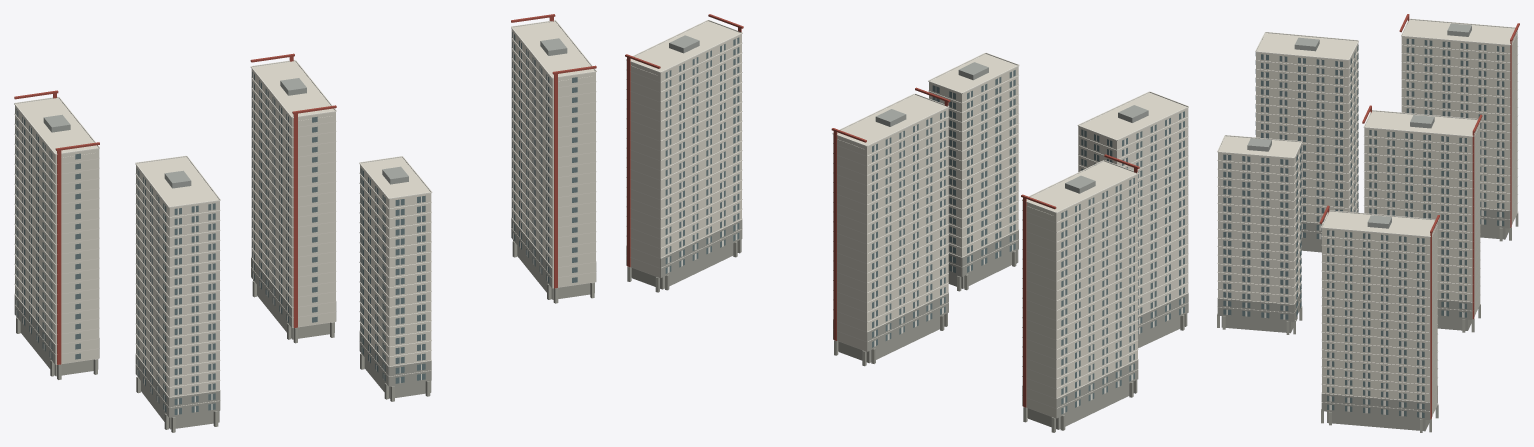
File: representative-a10024925.glb
3 views of the same model, side by side, from view 1: azimuth 30°, elevation 25°; view 2: azimuth 150°, elevation 25°; view 3: azimuth 270°, elevation 25° (orthographic). The views are drawn at different scales.
Visible parts, largest first — view 1: A10024925_wall001, A10024925_trim001, A10024925_glass001, A10024925_base001, A10024925_red_crown_trim001, A10024925_roof001; view 2: A10024925_wall001, A10024925_trim001, A10024925_glass001, A10024925_base001, A10024925_red_crown_trim001, A10024925_roof001; view 3: A10024925_wall001, A10024925_trim001, A10024925_glass001, A10024925_base001, A10024925_red_crown_trim001, A10024925_roof001.
Part boxes in pixels (x1=…): A10024925_wall001: x1=15, y1=21, x2=595, y2=417; A10024925_trim001: x1=14, y1=20, x2=596, y2=414; A10024925_glass001: x1=15, y1=27, x2=594, y2=414; A10024925_base001: x1=14, y1=218, x2=596, y2=432; A10024925_red_crown_trim001: x1=14, y1=14, x2=596, y2=364; A10024925_roof001: x1=43, y1=38, x2=567, y2=188; A10024925_wall001: x1=626, y1=21, x2=1188, y2=418; A10024925_trim001: x1=626, y1=20, x2=1188, y2=418; A10024925_glass001: x1=665, y1=37, x2=1184, y2=414; A10024925_base001: x1=626, y1=220, x2=1188, y2=432; A10024925_red_crown_trim001: x1=625, y1=14, x2=1139, y2=407; A10024925_roof001: x1=669, y1=35, x2=1148, y2=193; A10024925_wall001: x1=1218, y1=19, x2=1517, y2=419; A10024925_trim001: x1=1217, y1=18, x2=1518, y2=417; A10024925_glass001: x1=1223, y1=38, x2=1504, y2=417; A10024925_base001: x1=1217, y1=208, x2=1518, y2=432; A10024925_red_crown_trim001: x1=1319, y1=14, x2=1519, y2=419; A10024925_roof001: x1=1247, y1=23, x2=1471, y2=228.
Size of the model in its own units: 143 by 61.7 by 83.97.
